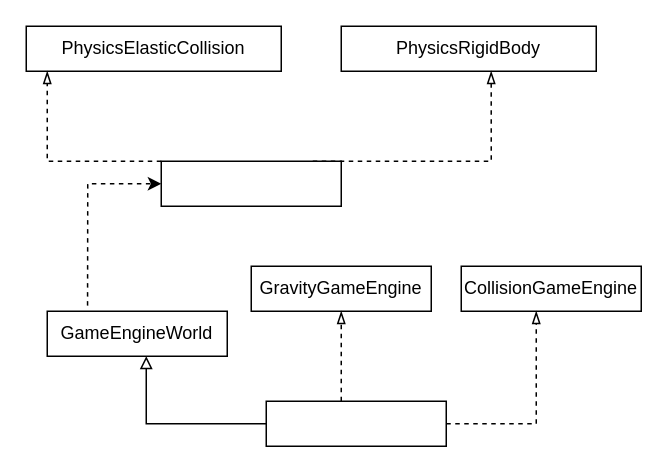
Some shapes in this 668 by 473 pixel diagram are drawn without their labels. The shapes that lost their labels are listed below. From the top down, each one's centre as x and y in pixels, then its label:
point (250, 183): PhysicsEngineBody
point (355, 423): GameEngineBody
